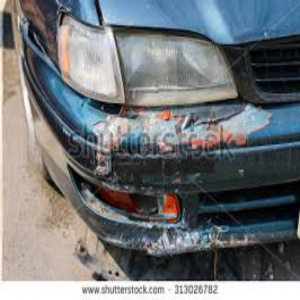bumper: (70, 173, 254, 258)
